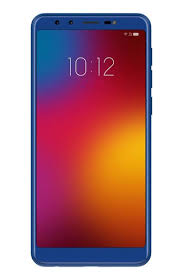lenovo: (28, 8, 153, 269)
